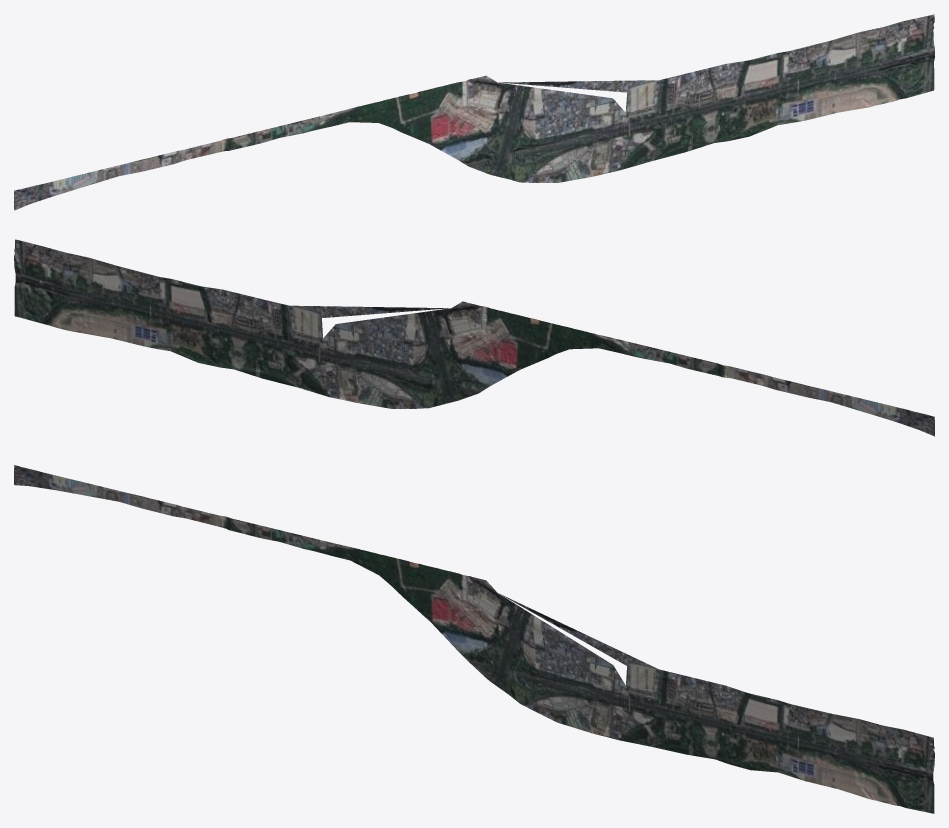
3 views of the same model, one above another, from view 1: azimuth 30°, elevation 25°; view 2: azimuth 150°, elevation 25°; view 3: azimuth 330°, elevation 25° (orthographic).
Visible parts, largest first — view 1: 0_2_3; view 2: 0_2_3; view 3: 0_2_3.
Boxes of the visible parts, box(x1,y1,x2,y2) form: 0_2_3: box(14, 14, 934, 210); 0_2_3: box(14, 239, 934, 436); 0_2_3: box(14, 465, 934, 813).
Size of the model in its own units: 3890 by 516 by 14.66.
1 material, 1 textured.
